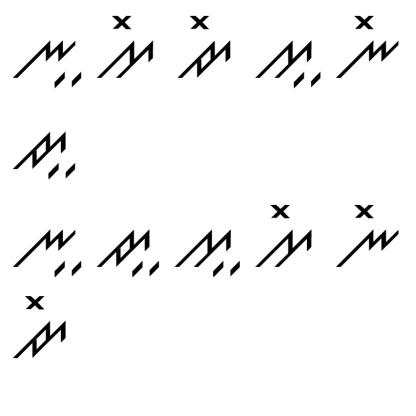jah: (10, 119, 81, 181), (94, 222, 164, 281)
jo: (11, 292, 73, 363), (172, 12, 233, 80)
nyah: (6, 220, 85, 280), (12, 35, 84, 92)
nyo: (334, 198, 404, 274), (337, 10, 401, 82)
sah: (251, 29, 323, 93), (170, 223, 244, 281)
so: (254, 198, 316, 270), (93, 13, 156, 81)
